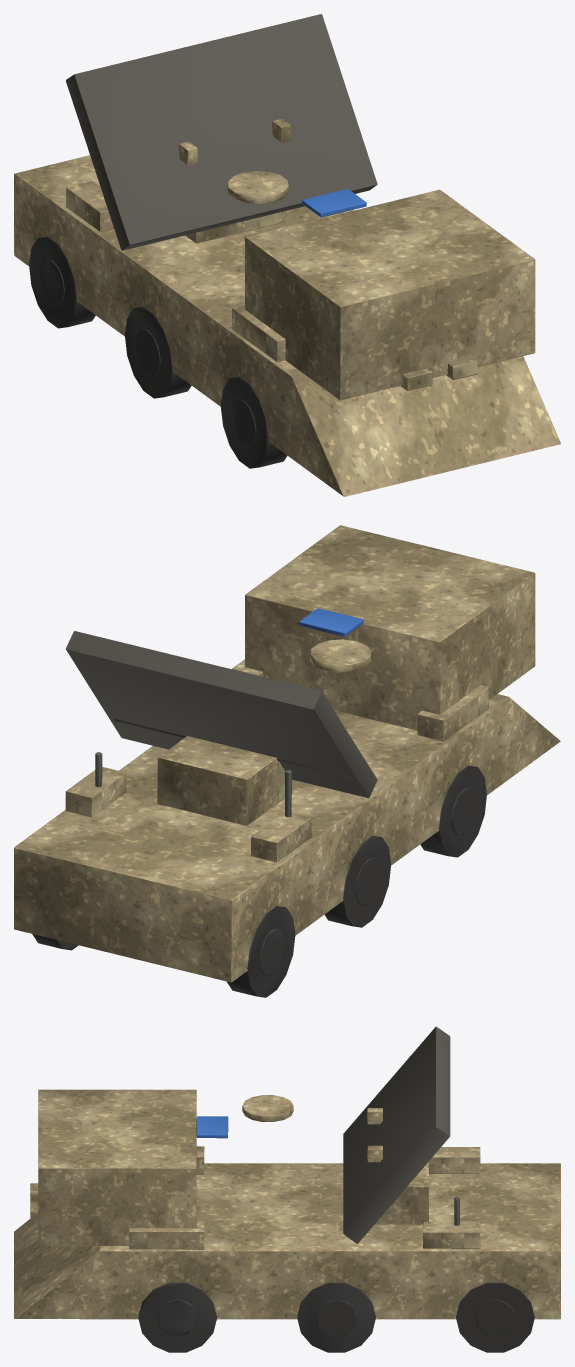
The model's file is rad_e4_us_counterbty_LOD1.glb.
3 renders of one model, top to bottom at view 1: azimuth 30°, elevation 25°; view 2: azimuth 150°, elevation 25°; view 3: azimuth 270°, elevation 25°, orthographic. The views are drawn at different scales.
Parts seen in each view (by area): view 1: rad_e4_us_counterbty_LOD1_body, rad_e4_us_counterbty_LOD1_deck, rad_e4_us_counterbty_LOD1_track, rad_e4_us_counterbty_LOD1_team; view 2: rad_e4_us_counterbty_LOD1_body, rad_e4_us_counterbty_LOD1_deck, rad_e4_us_counterbty_LOD1_track, rad_e4_us_counterbty_LOD1_team, rad_e4_us_counterbty_LOD1_gun; view 3: rad_e4_us_counterbty_LOD1_body, rad_e4_us_counterbty_LOD1_track, rad_e4_us_counterbty_LOD1_deck, rad_e4_us_counterbty_LOD1_team.
Part boxes in pixels (box(x1,y1,x2,y2)): rad_e4_us_counterbty_LOD1_body: box(14, 119, 560, 496); rad_e4_us_counterbty_LOD1_deck: box(66, 14, 377, 250); rad_e4_us_counterbty_LOD1_track: box(29, 236, 287, 468); rad_e4_us_counterbty_LOD1_team: box(302, 189, 366, 217); rad_e4_us_counterbty_LOD1_body: box(14, 525, 560, 982); rad_e4_us_counterbty_LOD1_deck: box(66, 631, 377, 798); rad_e4_us_counterbty_LOD1_track: box(32, 765, 486, 997); rad_e4_us_counterbty_LOD1_team: box(299, 608, 363, 636); rad_e4_us_counterbty_LOD1_gun: box(95, 752, 291, 817); rad_e4_us_counterbty_LOD1_body: box(14, 1089, 560, 1319); rad_e4_us_counterbty_LOD1_track: box(138, 1282, 534, 1352); rad_e4_us_counterbty_LOD1_deck: box(343, 1026, 450, 1243); rad_e4_us_counterbty_LOD1_team: box(196, 1116, 228, 1138).
Size of the model in its own units: 3.3 by 3.56 by 7.59.
Materials: 5 (1 with a texture image).
